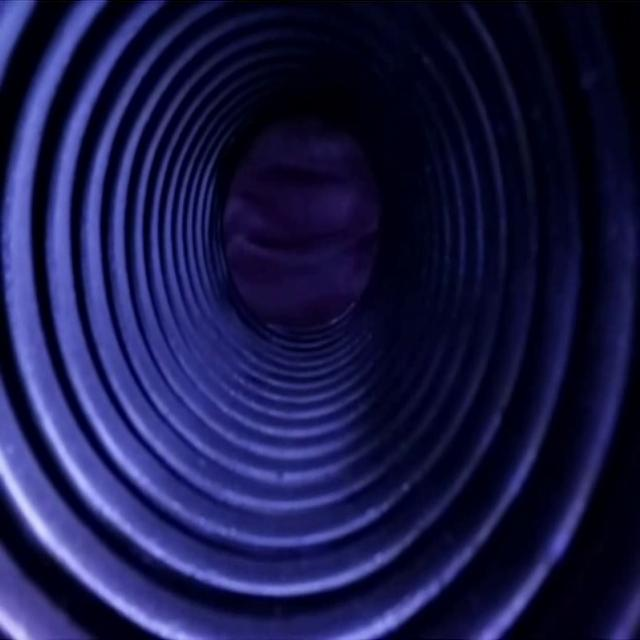block: (208, 117, 385, 343)
